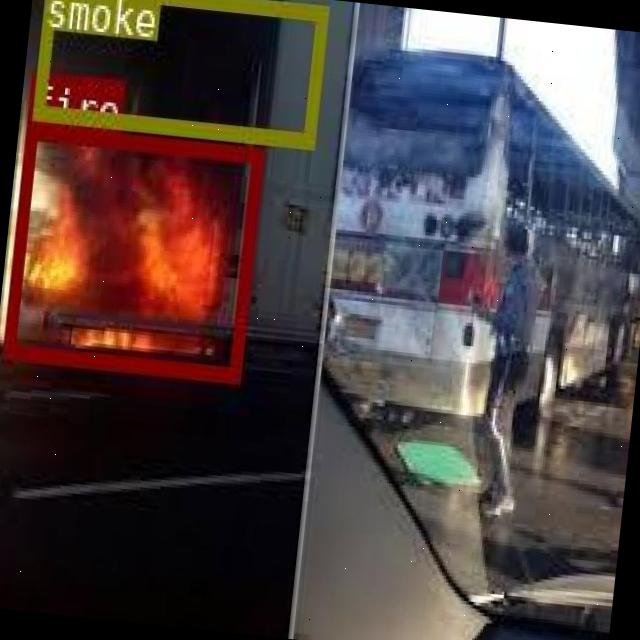fire: (1, 120, 260, 380)
smoke: (32, 0, 326, 145)
